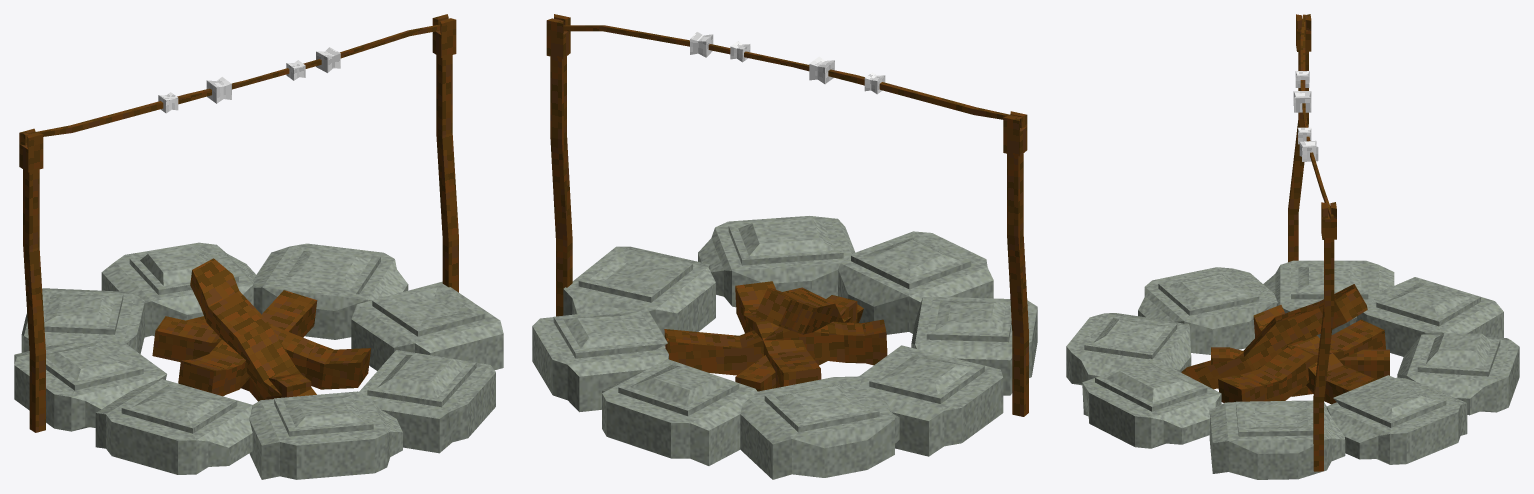
Rendered from BLOCKYGON_CAMPFIRE.fbx.
3 renders of one model, left to right at view 1: azimuth 30°, elevation 25°; view 2: azimuth 150°, elevation 25°; view 3: azimuth 270°, elevation 25°, orthographic. The views are drawn at different scales.
Parts seen in each view (by area): view 1: BLOCKYGON_CAMPFIRE; view 2: BLOCKYGON_CAMPFIRE; view 3: BLOCKYGON_CAMPFIRE.
Boxes of the visible parts, left/top/right/bottom form: BLOCKYGON_CAMPFIRE: left=14, top=14, right=503, bottom=479; BLOCKYGON_CAMPFIRE: left=532, top=14, right=1037, bottom=479; BLOCKYGON_CAMPFIRE: left=1066, top=14, right=1519, bottom=479.
Size of the model in its own units: 262 by 177 by 257.
3 materials, 3 textured.
